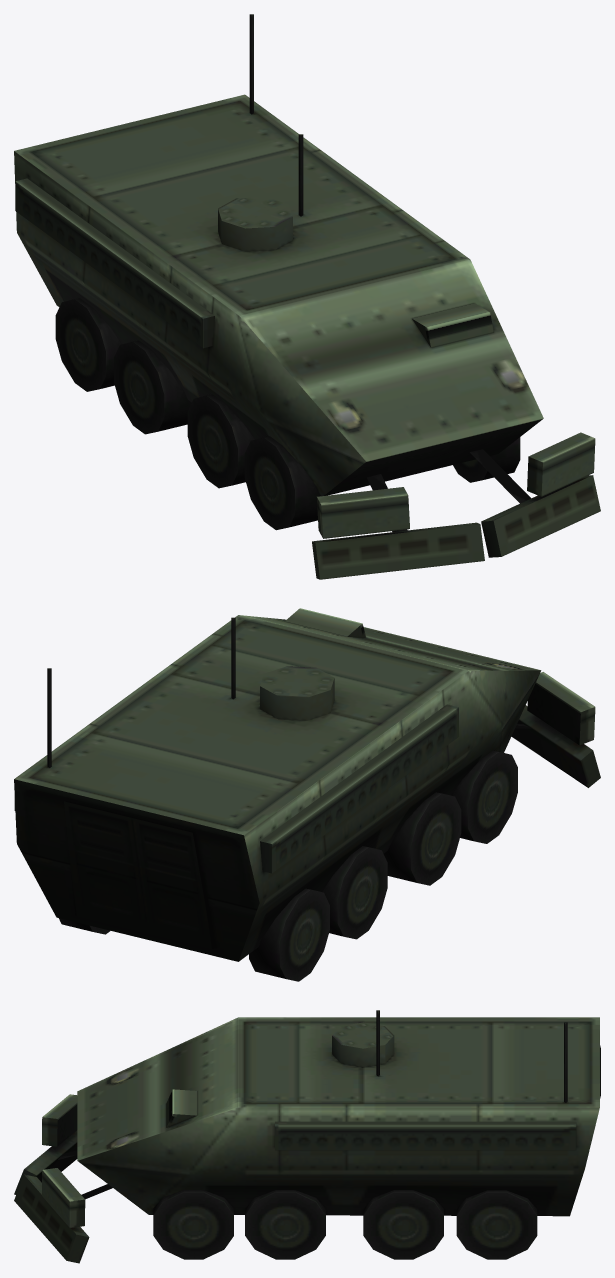
File: Stryker_ENGR.DAE
3 views of the same model, one above another, from view 1: azimuth 30°, elevation 25°; view 2: azimuth 150°, elevation 25°; view 3: azimuth 270°, elevation 25° (orthographic). The views are drawn at different scales.
Parts seen in each view (by area): view 1: _1170_Stryker_ENGR; view 2: _1170_Stryker_ENGR; view 3: _1170_Stryker_ENGR.
Part boxes in pixels (x1=…): _1170_Stryker_ENGR: x1=14, y1=14, x2=600, y2=579; _1170_Stryker_ENGR: x1=14, y1=608, x2=600, y2=981; _1170_Stryker_ENGR: x1=14, y1=1010, x2=600, y2=1263.
Size of the model in its own units: 122 by 120 by 276.
1 material, 1 textured.
